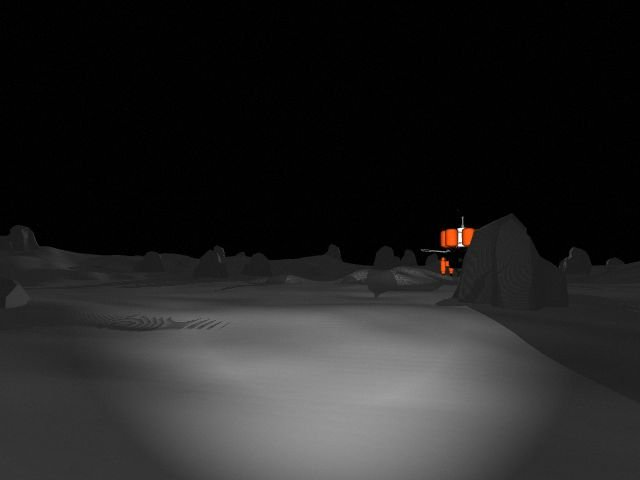homebase: (413, 212, 511, 280)
